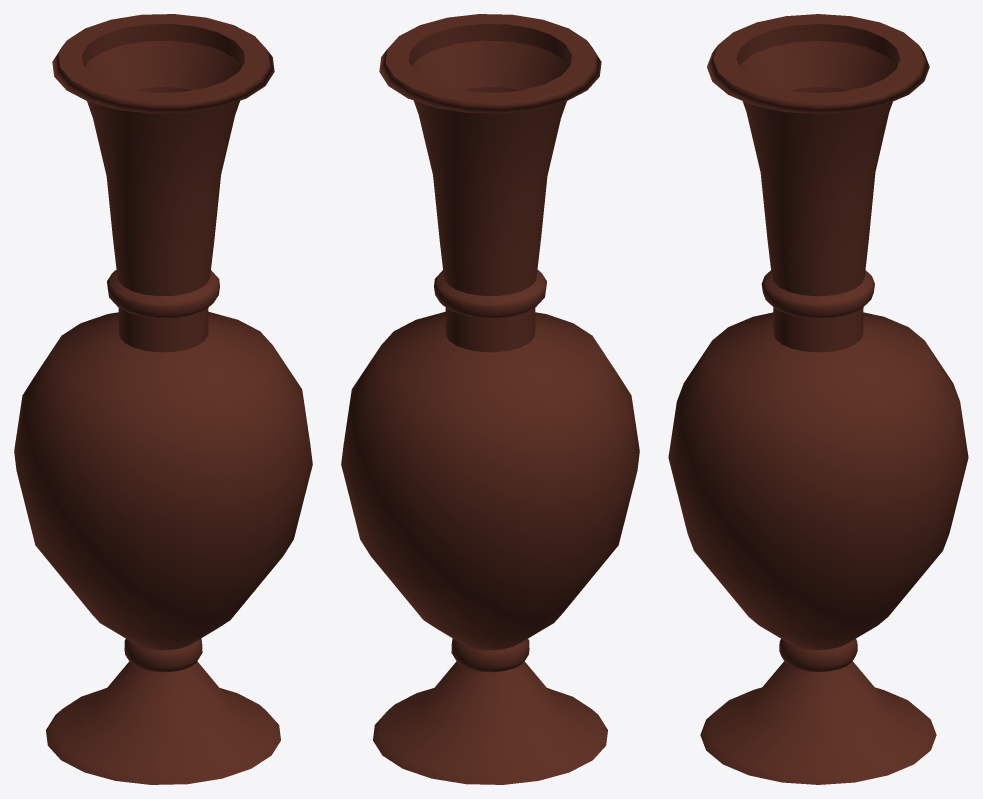
Rendered from OBJ_VaseB_01.fbx.
3 renders of one model, left to right at view 1: azimuth 30°, elevation 25°; view 2: azimuth 150°, elevation 25°; view 3: azimuth 270°, elevation 25°, orthographic.
Visible parts, largest first — view 1: vaseB; view 2: vaseB; view 3: vaseB.
Boxes of the visible parts, x1,y1,x2,y2 form: vaseB: (14, 14, 312, 784); vaseB: (341, 14, 639, 784); vaseB: (668, 14, 968, 784).
Bounding box in the file's own units: 0.8042 × 2 × 0.8042.
